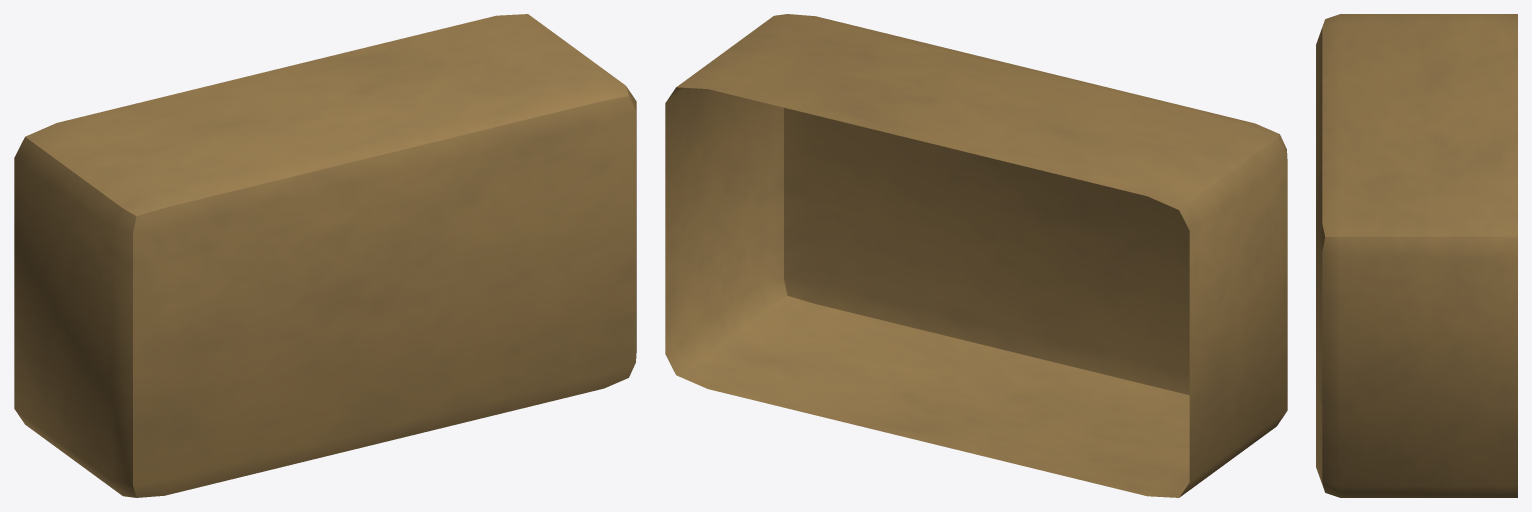
Rendered from Platform Wide Small End EXT.fbx.
The picture shows the model from 3 angles, left to right: view 1: azimuth 30°, elevation 25°; view 2: azimuth 150°, elevation 25°; view 3: azimuth 270°, elevation 25°; orthographic projection. The views are drawn at different scales.
Parts seen in each view (by area): view 1: Platform Wide Small End EXT; view 2: Platform Wide Small End EXT; view 3: Platform Wide Small End EXT.
Part boxes in pixels (x1,y1,x2,y2): Platform Wide Small End EXT: (14,14,636,497); Platform Wide Small End EXT: (665,14,1287,497); Platform Wide Small End EXT: (1316,14,1517,497).
Size of the model in its own units: 45.72 by 16.8 by 25.
